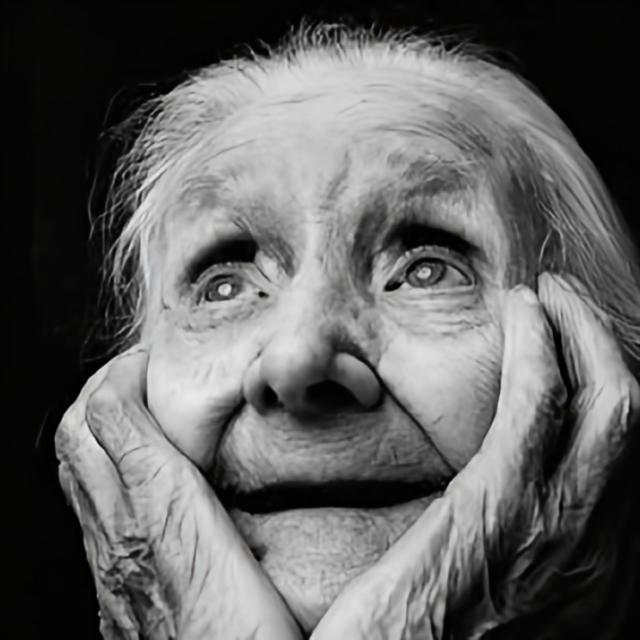fear: (138, 58, 552, 632)
